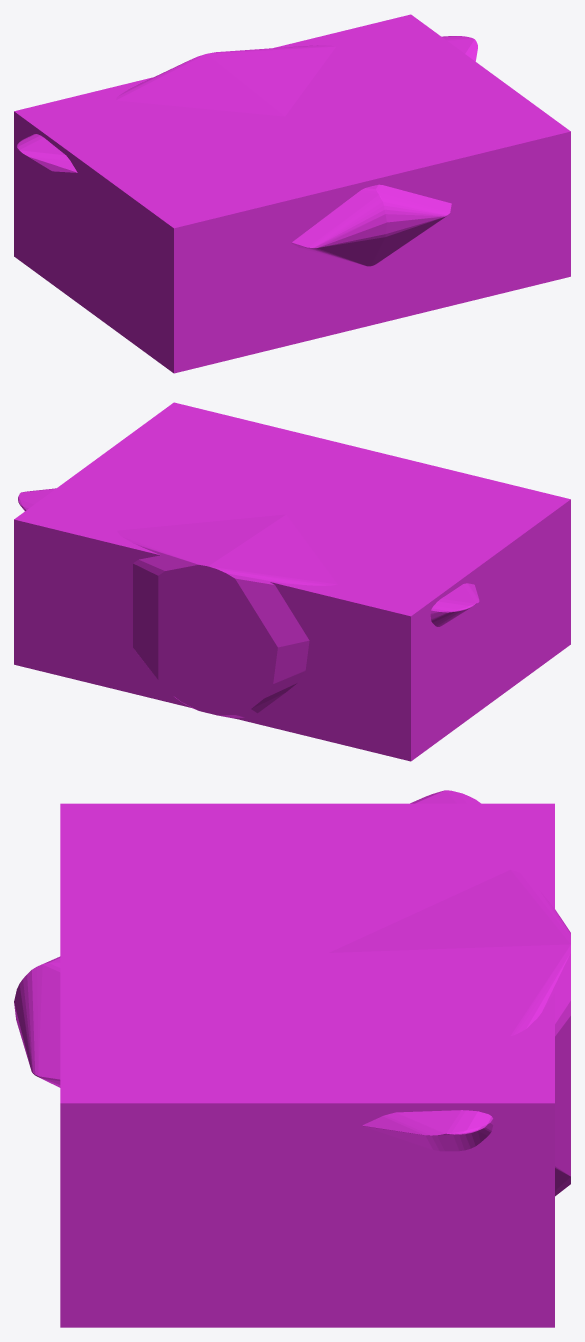
File: fokker_ev_stec_colliders.glb
3 views of the same model, one above another, from view 1: azimuth 30°, elevation 25°; view 2: azimuth 150°, elevation 25°; view 3: azimuth 270°, elevation 25° (orthographic). The views are drawn at different scales.
Parts seen in each view (by area): view 1: COL_Bounds_box, COL_Hull; view 2: COL_Bounds_box, COL_Hull; view 3: COL_Bounds_box, COL_Hull.
Boxes of the visible parts, box(x1,y1,x2,y2) form: COL_Bounds_box: box(14, 14, 570, 373); COL_Hull: box(16, 36, 477, 266); COL_Bounds_box: box(14, 402, 570, 761); COL_Hull: box(18, 488, 479, 718); COL_Bounds_box: box(60, 803, 554, 1327); COL_Hull: box(14, 790, 570, 1196).
Size of the model in its own units: 9.63 by 3.37 by 6.6.
